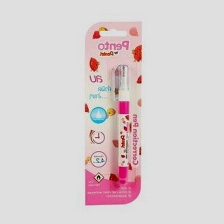book: (83, 19, 144, 206)
correction_fluid: (111, 59, 133, 190)
